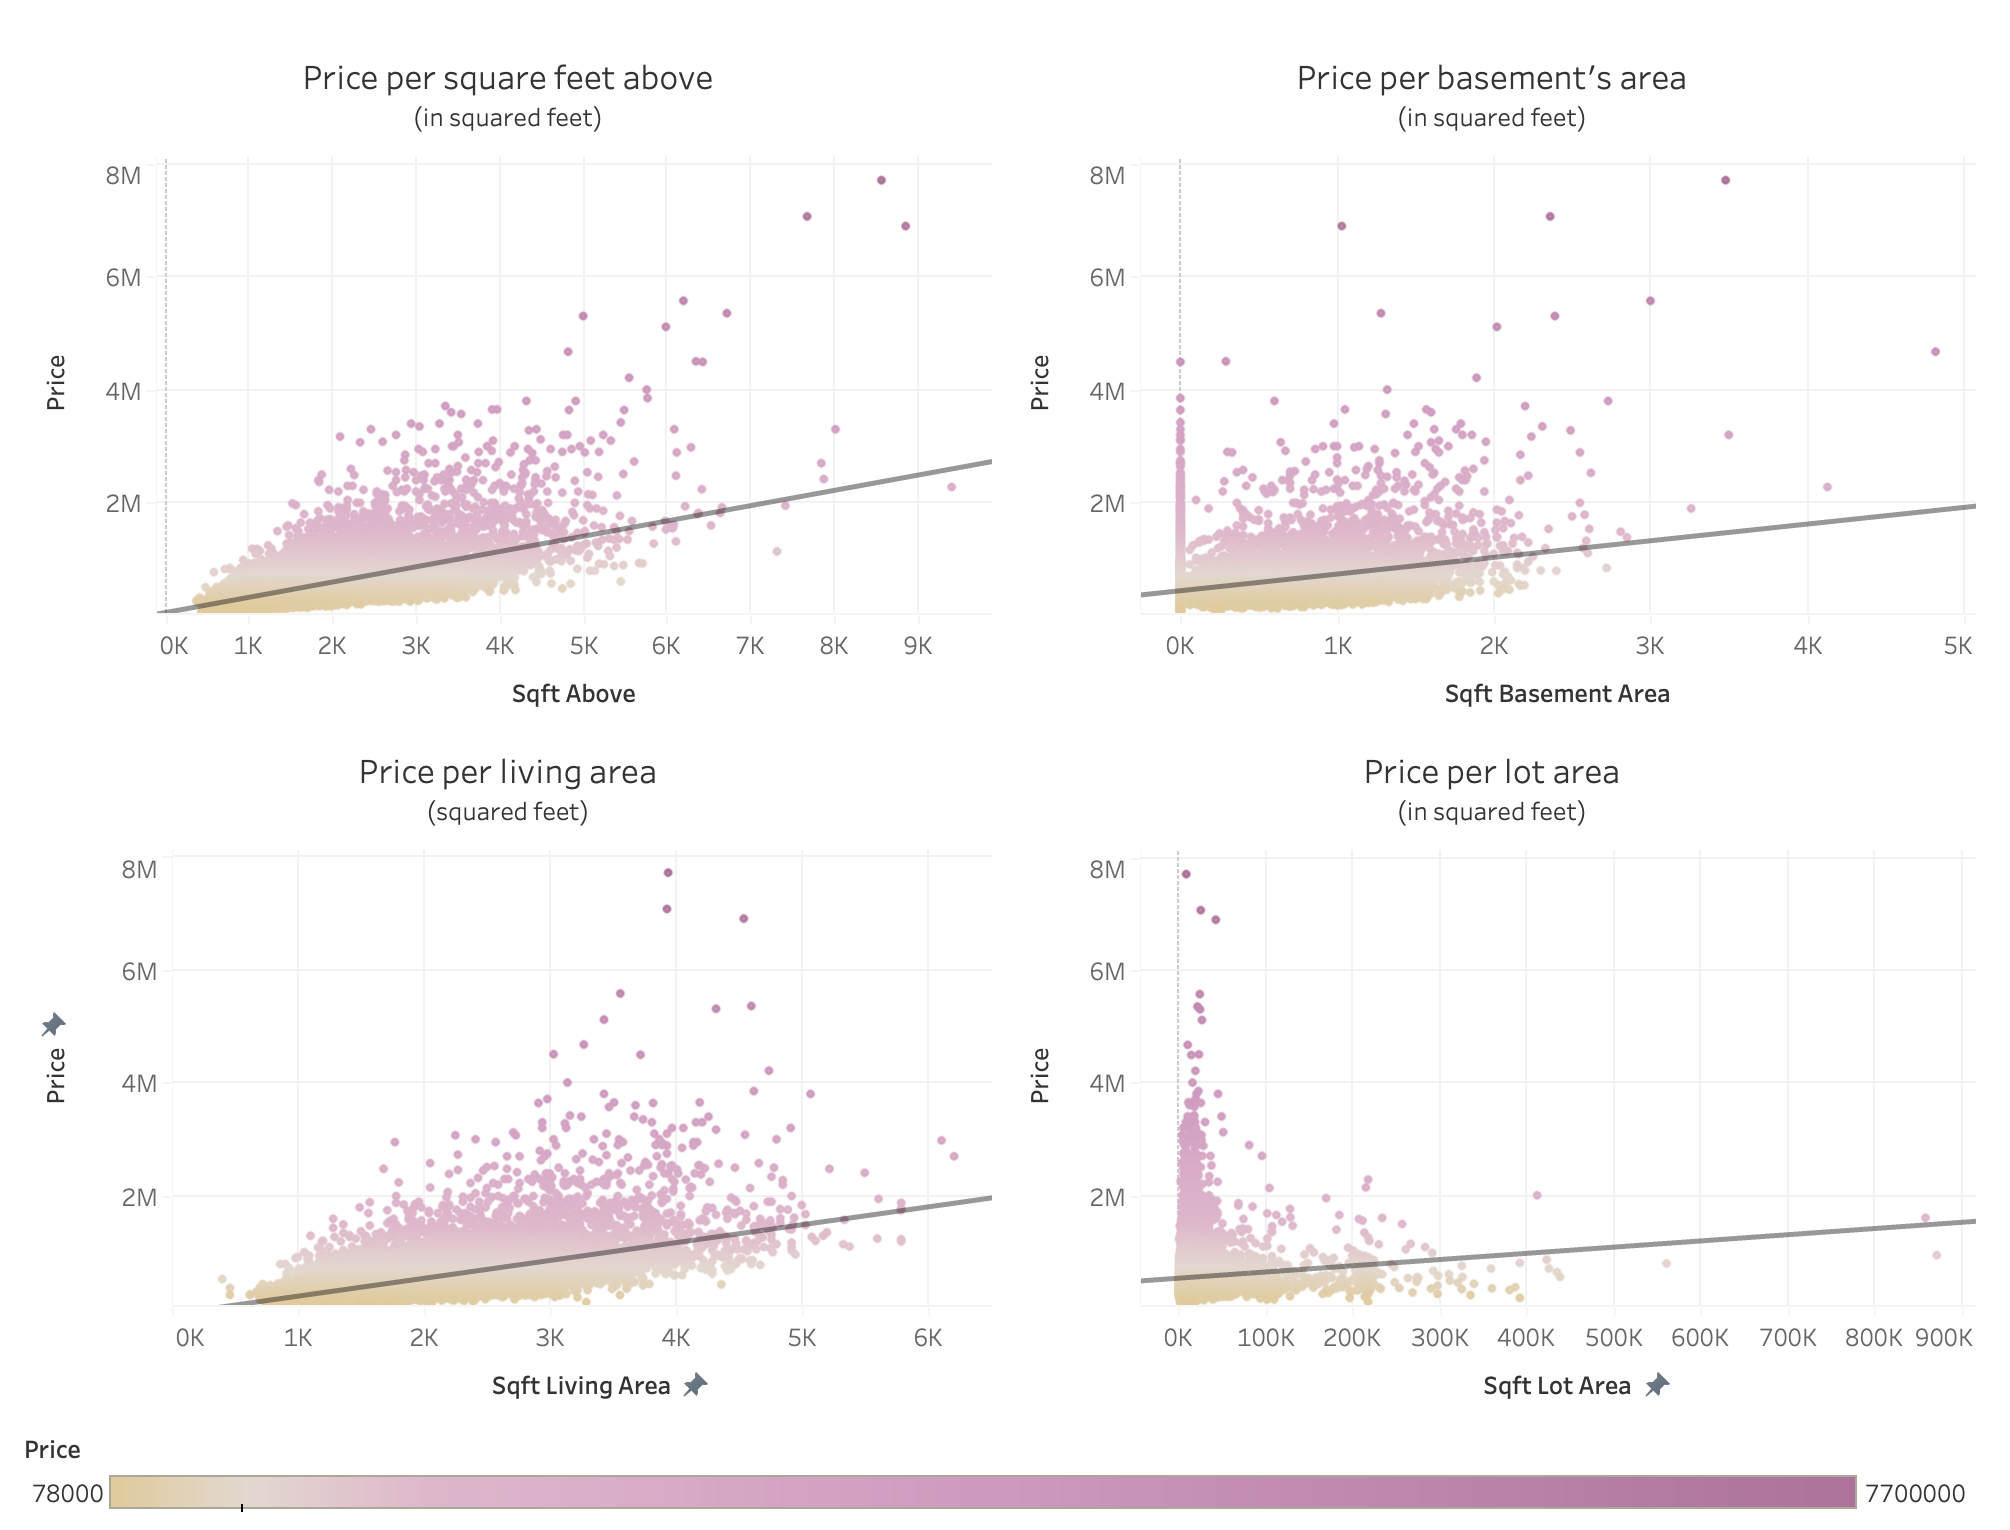

The dashboard page shown, as its layout file describes it:
{"tool":"tableau","page":{"name":"5. Squared feet","canvas":[1000,800],"ordinal":4},"visuals":[{"type":"worksheet","title":"Price/sqft_above","mark":"Automatic","rows":["price"],"cols":["sqft_above"],"box":[8,8,492,346.5]},{"type":"worksheet","title":"Price/sqft_basement","mark":"Automatic","rows":["price"],"cols":["sqft_basement"],"box":[500,8,492,346.5]},{"type":"worksheet","title":"Price/sqft_living","mark":"Automatic","rows":["price"],"cols":["sqft_living15"],"box":[8,354.5,492,346.5]},{"type":"worksheet","title":"Price/sqft_lot","mark":"Automatic","rows":["price"],"cols":["sqft_lot15"],"box":[500,354.5,492,346.5]},{"type":"legend","title":"Price/sqft_basement","param":"[federated.0pbj9kj0dpbl2810czj4603kvli4].[none:price:qk]","box":[8,701,984,91]}]}

Visuals, with their boxes on the page's 1000x800 design canvas (x1, y1, x2, y2). These are canvas units, not pixel positions in the 2010x1530 screenshot, which may show the page scaled, cropped or inside an application window:
"Price/sqft_above" worksheet: select_region(8, 8, 500, 354)
"Price/sqft_basement" worksheet: select_region(500, 8, 992, 354)
"Price/sqft_living" worksheet: select_region(8, 354, 500, 701)
"Price/sqft_lot" worksheet: select_region(500, 354, 992, 701)
"Price/sqft_basement" legend: select_region(8, 701, 992, 792)
